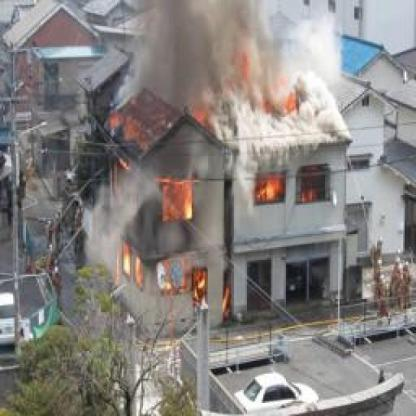fire: (110, 115, 230, 326), (213, 28, 308, 122), (253, 168, 287, 206)
